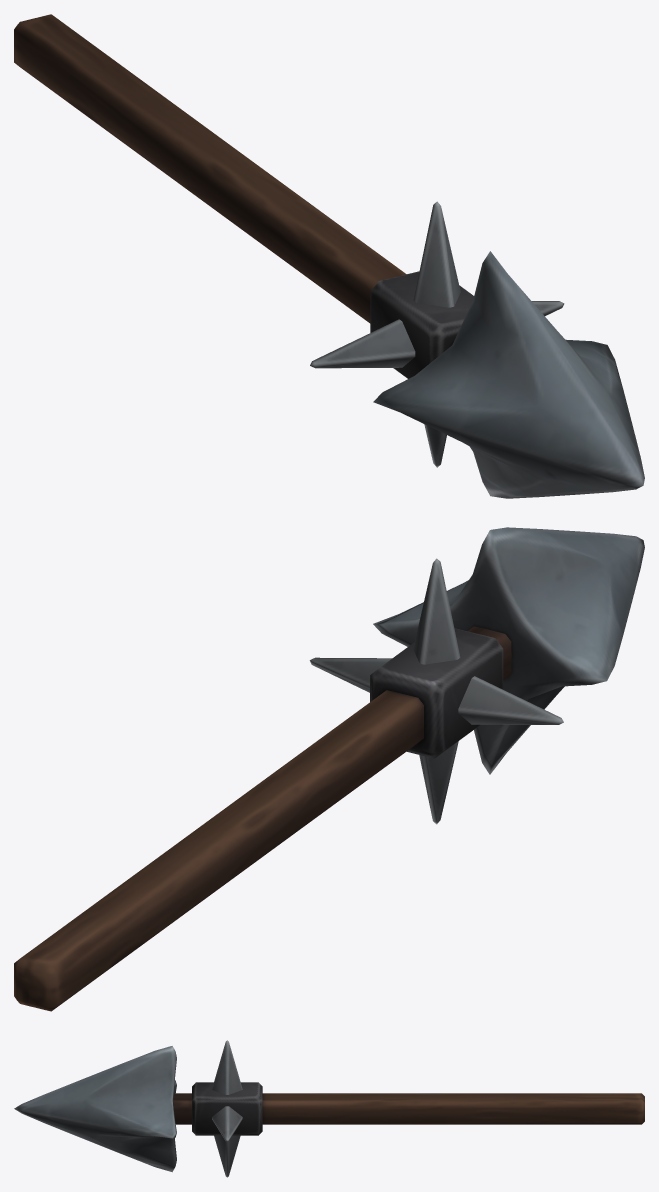
The model's file is SM_TowerDefense_Balista_Bow_Small.fbx.
The picture shows the model from 3 angles, top to bottom: view 1: azimuth 30°, elevation 25°; view 2: azimuth 150°, elevation 25°; view 3: azimuth 270°, elevation 25°; orthographic projection. The views are drawn at different scales.
Visible parts, largest first — view 1: SM_TowerDefense_Balista_Bow_Small; view 2: SM_TowerDefense_Balista_Bow_Small; view 3: SM_TowerDefense_Balista_Bow_Small.
Part boxes in pixels (x1,y1,x2,y2): SM_TowerDefense_Balista_Bow_Small: (14, 14, 644, 498); SM_TowerDefense_Balista_Bow_Small: (14, 527, 644, 1011); SM_TowerDefense_Balista_Bow_Small: (14, 1040, 644, 1177).
Bounding box in the file's own units: 121 × 121 × 504.
